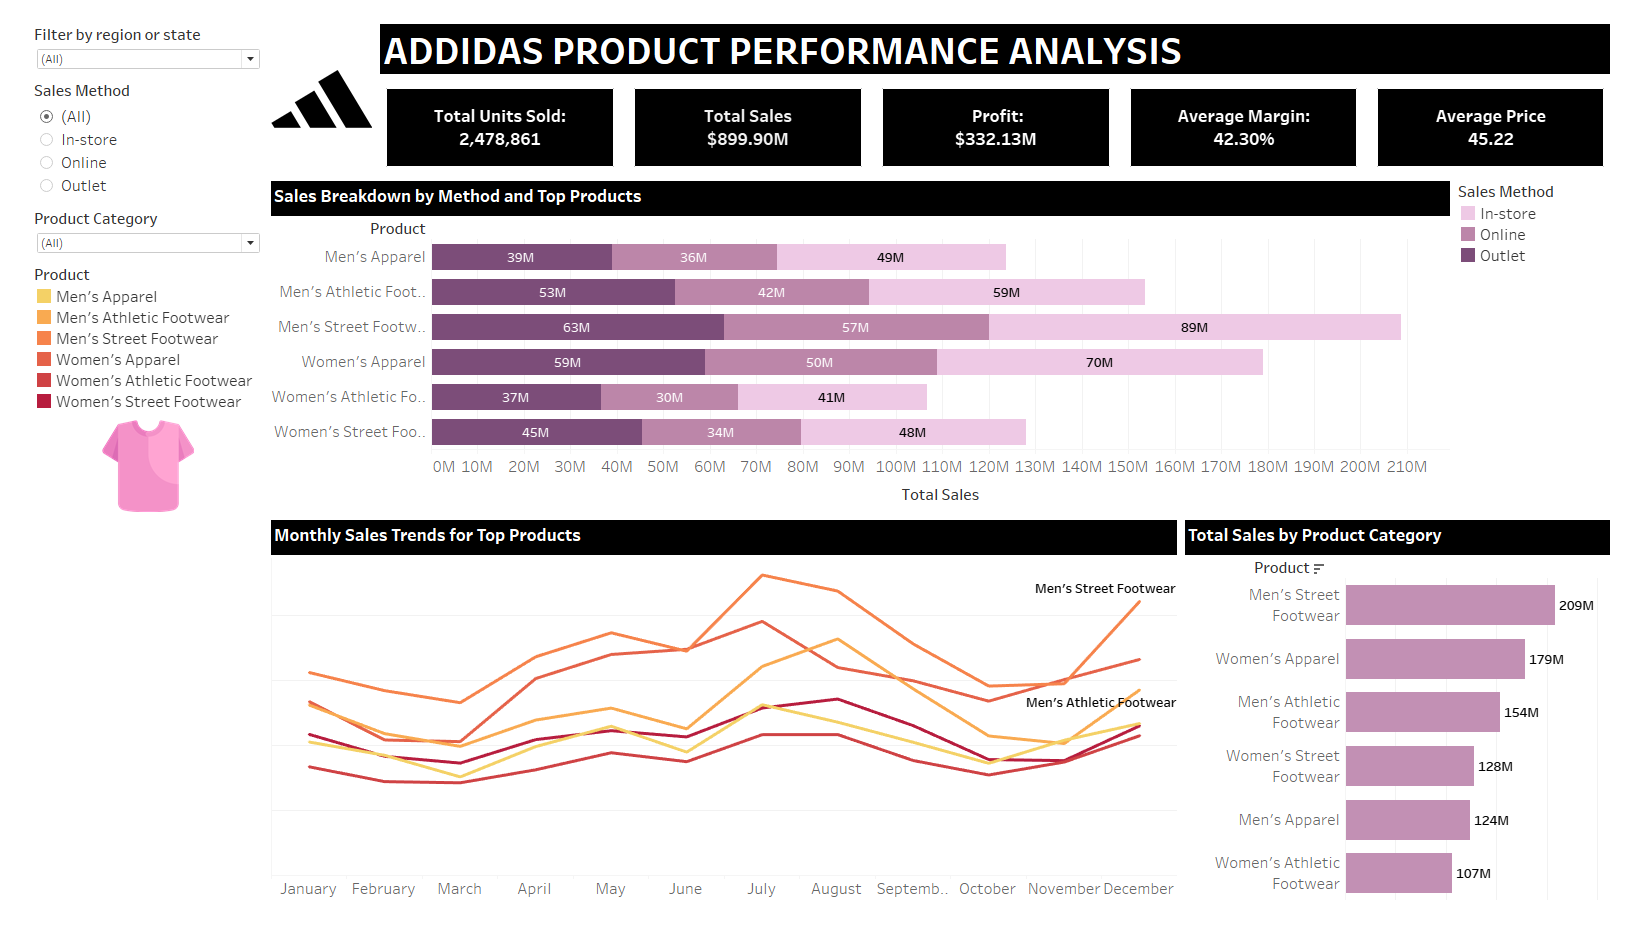

This screenshot's page, from the dashboard's own definition file:
{"tool":"tableau","page":{"name":"Product Overview","canvas":[1600,900],"ordinal":2},"visuals":[{"type":"filter","title":"Average Margin KPI","param":"[federated.0ea4zig1a5j5q4100k31f01owckk].[none:State:nk]","box":[8,8,237,56]},{"type":"image","param":"Image/adidas.png","box":[245,8,108.7,157]},{"type":"title","box":[353.7,8,1238.3,58]},{"type":"filter","title":"Average Margin KPI","param":"[federated.0ea4zig1a5j5q4100k31f01owckk].[none:Sales Method:nk]","box":[8,64,237,128]},{"type":"worksheet","title":"Total Units Sold KPI ","mark":"Automatic","box":[354,66,248,99]},{"type":"worksheet","title":"Total Sales KPI","mark":"Automatic","box":[602,66,248,99]},{"type":"worksheet","title":"Profit KPI","mark":"Automatic","box":[850,66,248,99]},{"type":"worksheet","title":"Average Margin KPI","mark":"Automatic","box":[1098,66,247,99]},{"type":"worksheet","title":"Average Price","mark":"Automatic","box":[1345,66,247,99]},{"type":"worksheet","title":"Sales by Method for Top Products","mark":"Automatic","rows":["Product"],"cols":["Total Sales"],"box":[245,165,1187,339]},{"type":"legend","title":"Sales by Method for Top Products","param":"[federated.0ea4zig1a5j5q4100k31f01owckk].[none:Sales Method:nk]","box":[1432,165,160,339]},{"type":"filter","title":"Average Margin KPI","param":"[federated.0ea4zig1a5j5q4100k31f01owckk].[none:Product:nk]","box":[8,192,237,56]},{"type":"legend","title":"Sales Trends for Top Products","param":"[federated.0ea4zig1a5j5q4100k31f01owckk].[none:Product:nk]","box":[8,248,237,156]},{"type":"image","param":"Image/t-shirt.png","box":[8,404,237,100]},{"type":"blank","box":[8,504,237,356]},{"type":"worksheet","title":"Sales Trends for Top Products","mark":"Automatic","rows":["Total Sales"],"cols":["Invoice Date"],"box":[245,504,914.2,388]},{"type":"worksheet","title":"Sales by Product","mark":"Automatic","rows":["Product"],"cols":["Total Sales"],"box":[1159.2,504,432.8,388]},{"type":"blank","box":[8,860,237,32]}]}

Visuals, with their boxes in screenshot pixels (x1, y1, x2, y2), scaled from the page's 1600x900 canvas onto the 1643x936 screenshot:
"Average Margin KPI" filter: box(8, 8, 252, 67)
image: box(252, 8, 363, 172)
title: box(363, 8, 1635, 69)
"Average Margin KPI" filter: box(8, 67, 252, 200)
"Total Units Sold KPI " worksheet: box(364, 69, 618, 172)
"Total Sales KPI" worksheet: box(618, 69, 873, 172)
"Profit KPI" worksheet: box(873, 69, 1128, 172)
"Average Margin KPI" worksheet: box(1128, 69, 1381, 172)
"Average Price" worksheet: box(1381, 69, 1635, 172)
"Sales by Method for Top Products" worksheet: box(252, 172, 1470, 524)
"Sales by Method for Top Products" legend: box(1470, 172, 1635, 524)
"Average Margin KPI" filter: box(8, 200, 252, 258)
"Sales Trends for Top Products" legend: box(8, 258, 252, 420)
image: box(8, 420, 252, 524)
blank: box(8, 524, 252, 894)
"Sales Trends for Top Products" worksheet: box(252, 524, 1190, 928)
"Sales by Product" worksheet: box(1190, 524, 1635, 928)
blank: box(8, 894, 252, 928)
